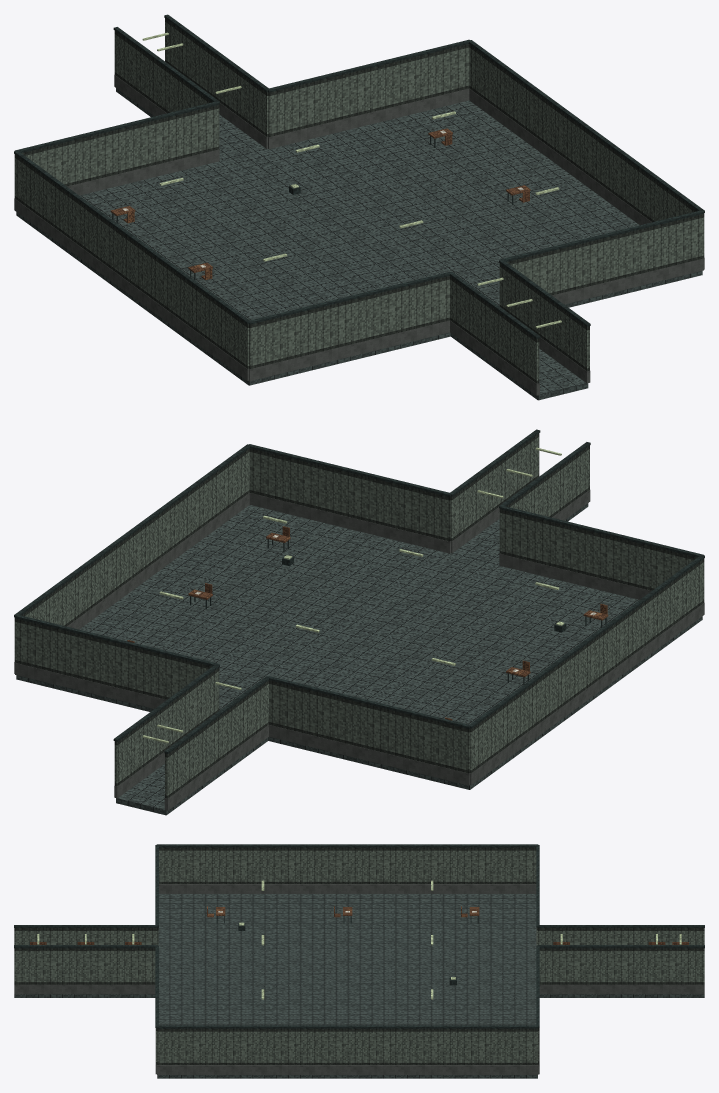
File: FERI_Route_A.fbx
3 renders of one model, top to bottom at view 1: azimuth 30°, elevation 25°; view 2: azimuth 150°, elevation 25°; view 3: azimuth 270°, elevation 25°, orthographic. The views are drawn at different scales.
Visible parts, largest first — view 1: PL_Route_A_Floor, PL_Route_A_Wall, PL_Route_A_Concrete, PL_Route_A_Iron, PL_Route_A_Tube, PL_Route_A_Wood; view 2: PL_Route_A_Floor, PL_Route_A_Wall, PL_Route_A_Concrete, PL_Route_A_Iron, PL_Route_A_Tube, PL_Route_A_Wood; view 3: PL_Route_A_Floor, PL_Route_A_Wall, PL_Route_A_Concrete, PL_Route_A_Iron, PL_Route_A_Wood, PL_Route_A_Tube.
Part boxes in pixels (<box>): PL_Route_A_Floor: <box>16,88,702,400</box>; PL_Route_A_Wall: <box>14,18,704,383</box>; PL_Route_A_Concrete: <box>14,75,704,395</box>; PL_Route_A_Iron: <box>14,14,704,338</box>; PL_Route_A_Tube: <box>142,32,561,328</box>; PL_Route_A_Wood: <box>110,128,530,279</box>; PL_Route_A_Floor: <box>16,503,702,815</box>; PL_Route_A_Wall: <box>14,433,704,798</box>; PL_Route_A_Concrete: <box>14,490,704,810</box>; PL_Route_A_Iron: <box>14,429,704,753</box>; PL_Route_A_Tube: <box>142,447,564,743</box>; PL_Route_A_Wood: <box>127,526,608,720</box>; PL_Route_A_Floor: <box>14,894,704,1078</box>; PL_Route_A_Wall: <box>14,847,704,1064</box>; PL_Route_A_Concrete: <box>14,884,704,1074</box>; PL_Route_A_Iron: <box>14,844,704,1028</box>; PL_Route_A_Wood: <box>30,906,688,944</box>; PL_Route_A_Tube: <box>37,880,681,999</box>.
Bounding box in the file's own units: 36.3 × 4.86 × 58.08.
